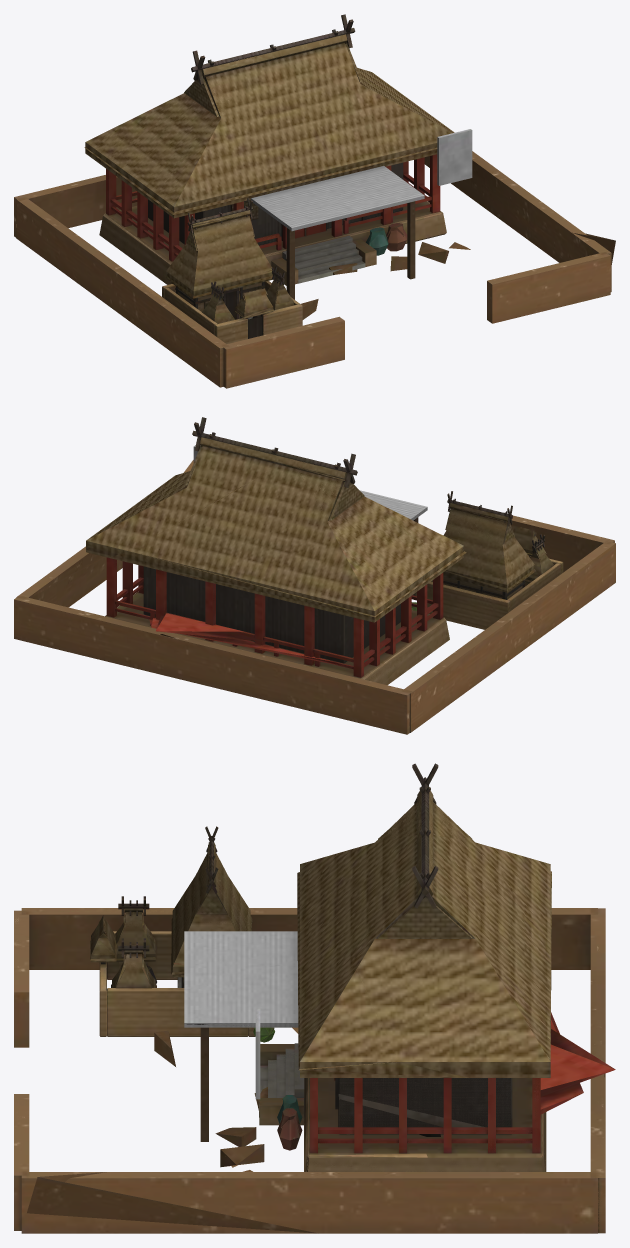
File: civic-bronze-sinic-da4376ea.glb
3 renders of one model, top to bottom at view 1: azimuth 30°, elevation 25°; view 2: azimuth 150°, elevation 25°; view 3: azimuth 270°, elevation 25°, orthographic. The views are drawn at different scales.
Parts seen in each view (by area): view 1: LOD0, LOD0.001, LOD0.002; view 2: LOD0, LOD0.001, LOD0.002; view 3: LOD0, LOD0.001, LOD0.002.
Part boxes in pixels (x1=…): LOD0: x1=14, y1=14, x2=611, y2=388; LOD0.001: x1=31, y1=54, x2=611, y2=387; LOD0.002: x1=15, y1=198, x2=615, y2=337; LOD0: x1=14, y1=417, x2=615, y2=734; LOD0.001: x1=29, y1=455, x2=614, y2=683; LOD0.002: x1=143, y1=460, x2=560, y2=725; LOD0: x1=14, y1=763, x2=605, y2=1233; LOD0.001: x1=14, y1=764, x2=605, y2=1232; LOD0.002: x1=27, y1=908, x2=615, y2=1233.
Size of what is drawn, in the model's own units: 1.93 by 0.9217 by 1.78.
Materials: 2 (2 with a texture image).
